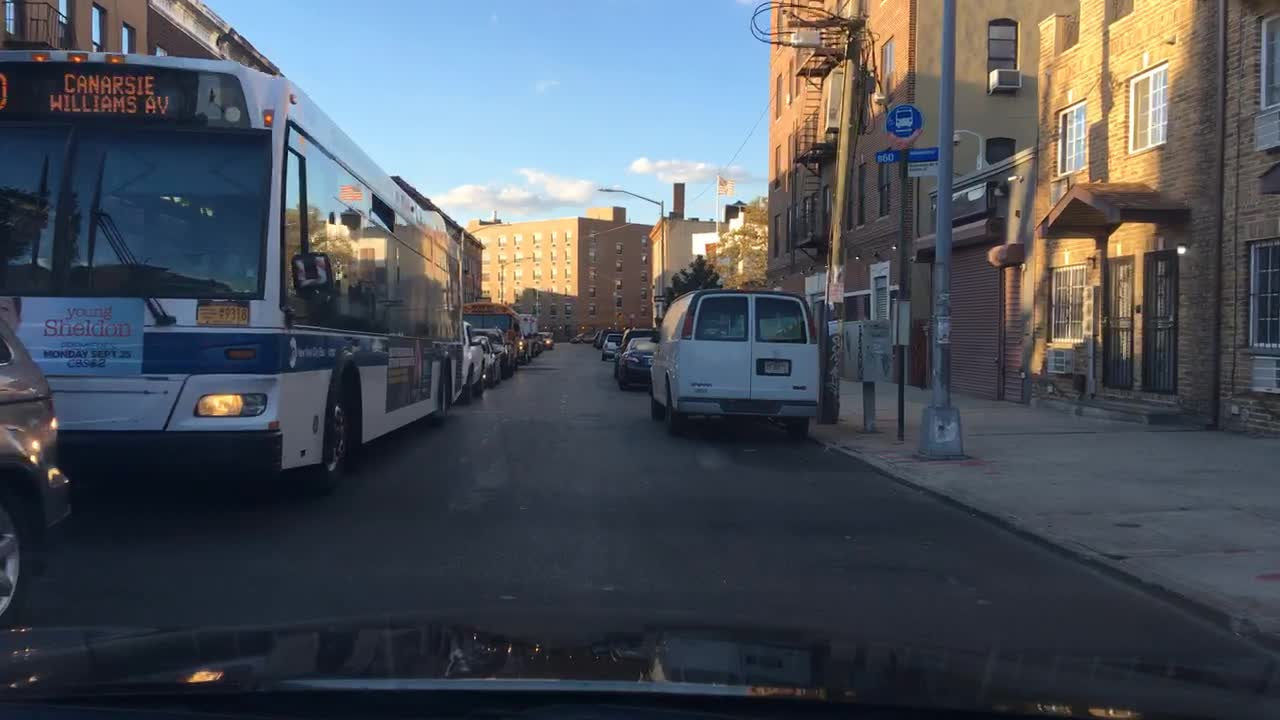bus: (0, 47, 463, 494), (463, 299, 520, 380)
car: (649, 286, 820, 441), (0, 316, 68, 629), (469, 326, 513, 383), (616, 336, 658, 392), (612, 326, 655, 380), (460, 323, 484, 402), (469, 336, 496, 389), (598, 332, 624, 362), (592, 327, 621, 350), (568, 332, 598, 345), (535, 329, 553, 350)
traffic sign: (883, 104, 920, 149), (904, 149, 941, 176), (874, 148, 899, 164), (829, 284, 842, 305), (649, 293, 670, 304)
truck: (519, 311, 541, 363)
